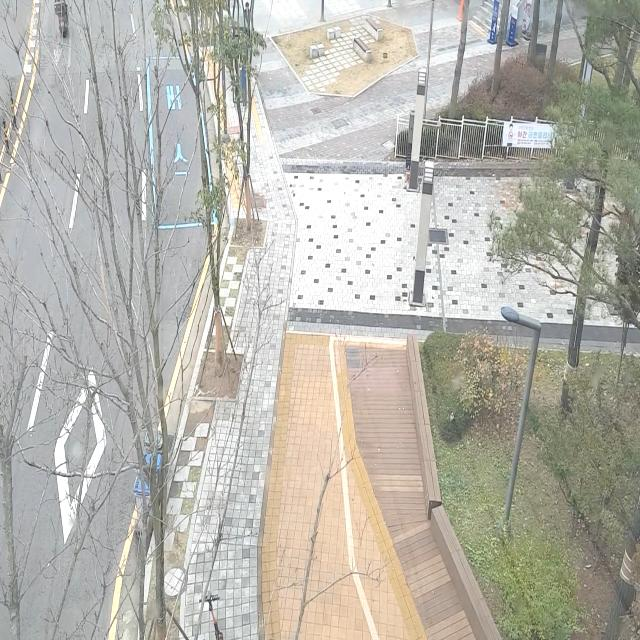Motorcycle: (48, 0, 73, 43)
